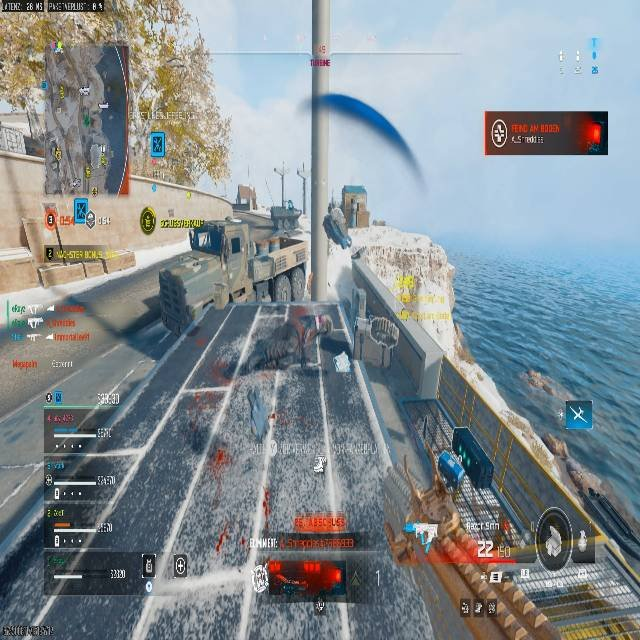head: (342, 183, 370, 225)
